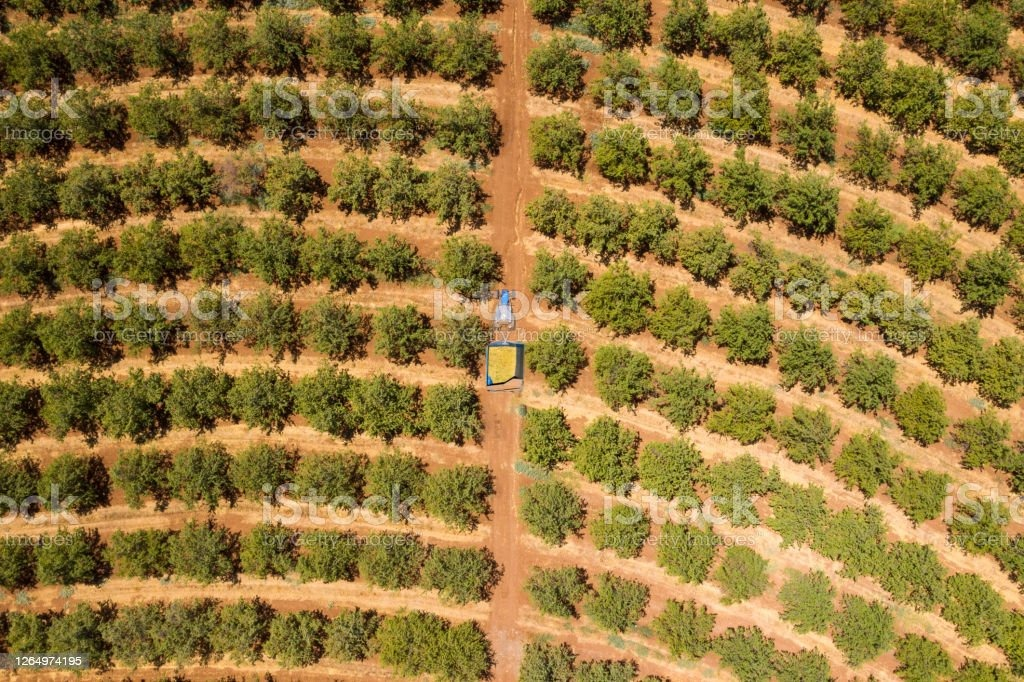TREE: (867, 62, 953, 134), (701, 453, 782, 528), (570, 413, 641, 493), (433, 10, 503, 89), (819, 502, 887, 583), (828, 592, 896, 670), (519, 480, 590, 549), (523, 30, 591, 102), (881, 541, 949, 613), (703, 155, 778, 220), (291, 361, 354, 438), (765, 481, 834, 551), (637, 435, 705, 506), (654, 520, 727, 586), (940, 571, 1004, 646), (704, 381, 779, 445), (425, 157, 486, 235), (1, 16, 64, 90), (896, 133, 958, 208), (833, 431, 903, 497), (770, 404, 842, 468), (897, 216, 963, 285), (774, 322, 839, 392), (434, 309, 498, 380), (420, 380, 487, 447), (713, 1, 771, 78), (651, 365, 719, 430), (954, 245, 1021, 310), (776, 96, 840, 164), (773, 169, 841, 233), (226, 365, 292, 430), (652, 598, 718, 663), (356, 375, 419, 443), (955, 164, 1024, 226), (838, 197, 908, 258), (105, 368, 164, 440), (525, 322, 590, 387), (185, 215, 251, 279), (837, 349, 901, 415), (709, 75, 771, 143), (47, 228, 112, 292), (711, 542, 775, 607), (945, 84, 1010, 148), (714, 298, 776, 365), (427, 467, 495, 528), (838, 121, 901, 186), (649, 289, 711, 355), (776, 568, 838, 634), (439, 236, 507, 296), (944, 497, 1011, 557), (924, 315, 983, 383), (40, 450, 106, 510), (306, 227, 366, 293), (587, 268, 647, 334), (887, 468, 956, 525), (594, 342, 647, 415), (950, 408, 1011, 471), (525, 112, 585, 176), (111, 450, 173, 511), (190, 85, 251, 147), (61, 19, 123, 80), (589, 500, 652, 560), (365, 449, 418, 520), (713, 625, 779, 682), (892, 381, 949, 447), (118, 226, 178, 288), (640, 61, 699, 124), (526, 248, 579, 318), (777, 254, 842, 311), (1, 165, 55, 233), (730, 231, 781, 303), (313, 86, 373, 147), (171, 520, 233, 579), (945, 16, 1007, 75), (116, 300, 179, 358), (584, 54, 642, 117), (528, 563, 592, 620), (586, 577, 650, 634), (37, 530, 102, 586), (309, 295, 364, 361), (834, 29, 887, 97), (658, 136, 711, 203), (773, 24, 823, 95), (1, 107, 69, 159), (373, 16, 429, 79), (252, 219, 301, 290), (878, 294, 933, 357), (179, 443, 231, 509), (433, 618, 491, 677), (295, 451, 356, 507), (976, 336, 1024, 407), (191, 12, 243, 77), (163, 151, 221, 209), (381, 615, 441, 671), (440, 105, 500, 161), (257, 157, 315, 214), (251, 86, 308, 144), (59, 167, 118, 223), (43, 305, 104, 359), (174, 368, 227, 430), (312, 15, 365, 77), (362, 236, 429, 285), (326, 152, 377, 216), (522, 408, 572, 473), (72, 93, 127, 152), (837, 271, 896, 326), (893, 2, 955, 54), (129, 92, 188, 146), (593, 125, 647, 183), (235, 441, 287, 501), (627, 198, 675, 262), (42, 375, 93, 435), (253, 13, 304, 73), (240, 521, 294, 577), (660, 1, 714, 57), (587, 1, 646, 52), (1, 238, 51, 298), (523, 184, 575, 241), (251, 296, 301, 355), (894, 632, 953, 682), (364, 535, 419, 588), (302, 529, 357, 582), (380, 160, 425, 224), (47, 614, 102, 666), (433, 550, 488, 602), (684, 223, 729, 285), (583, 194, 626, 258), (219, 606, 269, 661), (377, 306, 427, 361), (160, 609, 213, 660), (102, 607, 157, 655), (768, 646, 839, 682), (273, 612, 324, 662), (1, 310, 44, 368), (137, 15, 180, 73), (113, 531, 165, 578), (386, 98, 429, 154), (197, 295, 240, 349), (3, 379, 36, 446), (330, 610, 377, 656), (120, 160, 160, 214), (2, 615, 44, 666), (522, 644, 572, 682), (993, 533, 1024, 593), (998, 608, 1024, 677), (952, 655, 1013, 682), (1, 534, 30, 590), (576, 659, 641, 682), (1, 459, 30, 509), (999, 119, 1024, 175), (1005, 450, 1024, 496), (529, 1, 572, 20)
